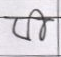i_matra: (32, 8, 46, 40)
